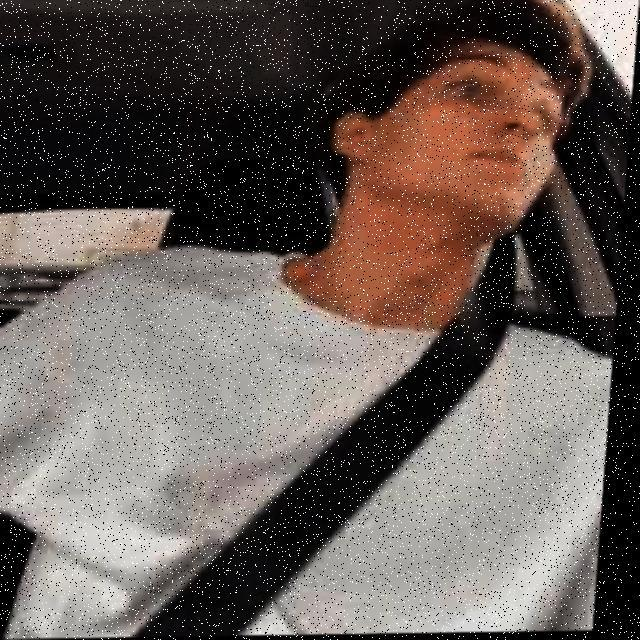seatbelt: (14, 240, 626, 636)
